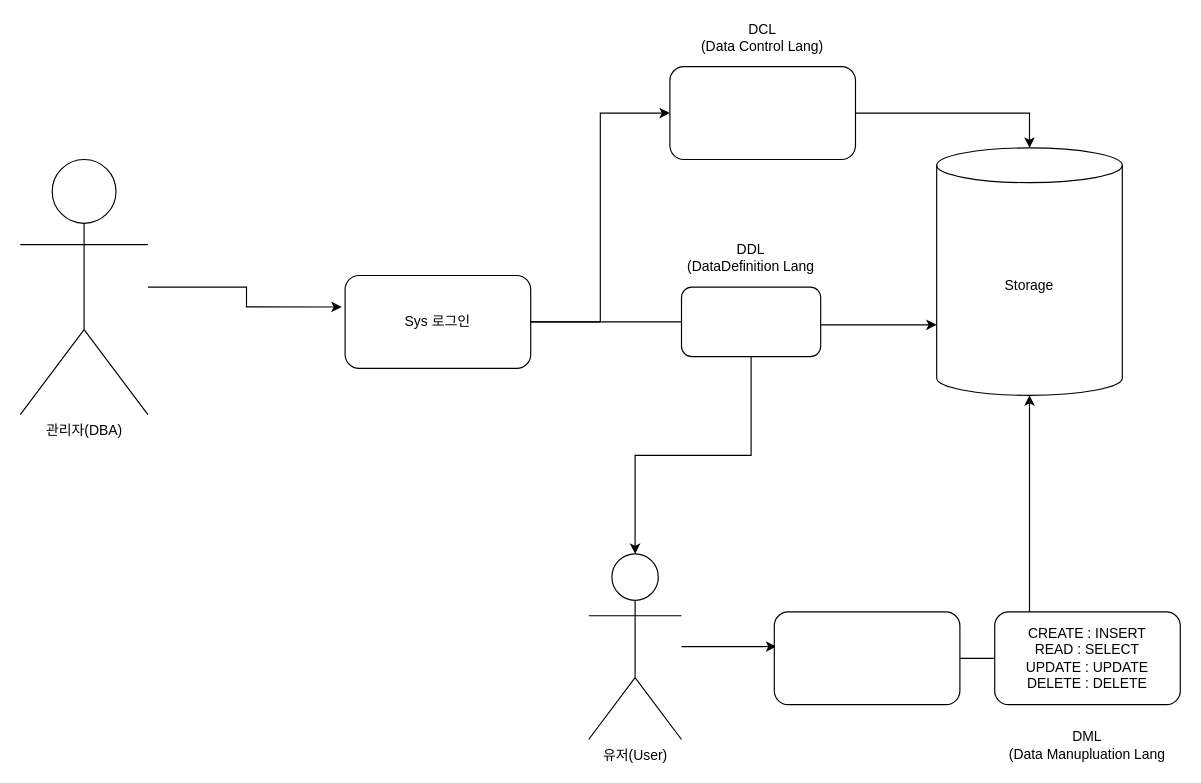
This 1201x783 diagram has some shape labels left out. Here are the shapes that lost their labels. From the top down, the centre of each, then its label:
the point at 762,113: GRANT, REVOKE COMMIT, ROLL BACK
the point at 750,321: DB, User Create DB, User DROP DB Alter
the point at 866,658: User 로그인
